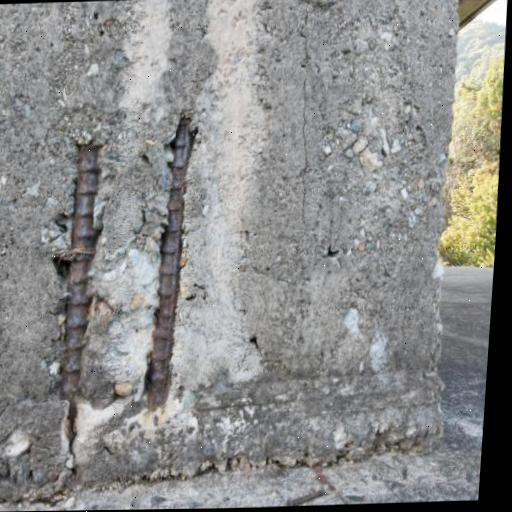exposed_rebar: (148, 117, 193, 409), (60, 143, 99, 449)
